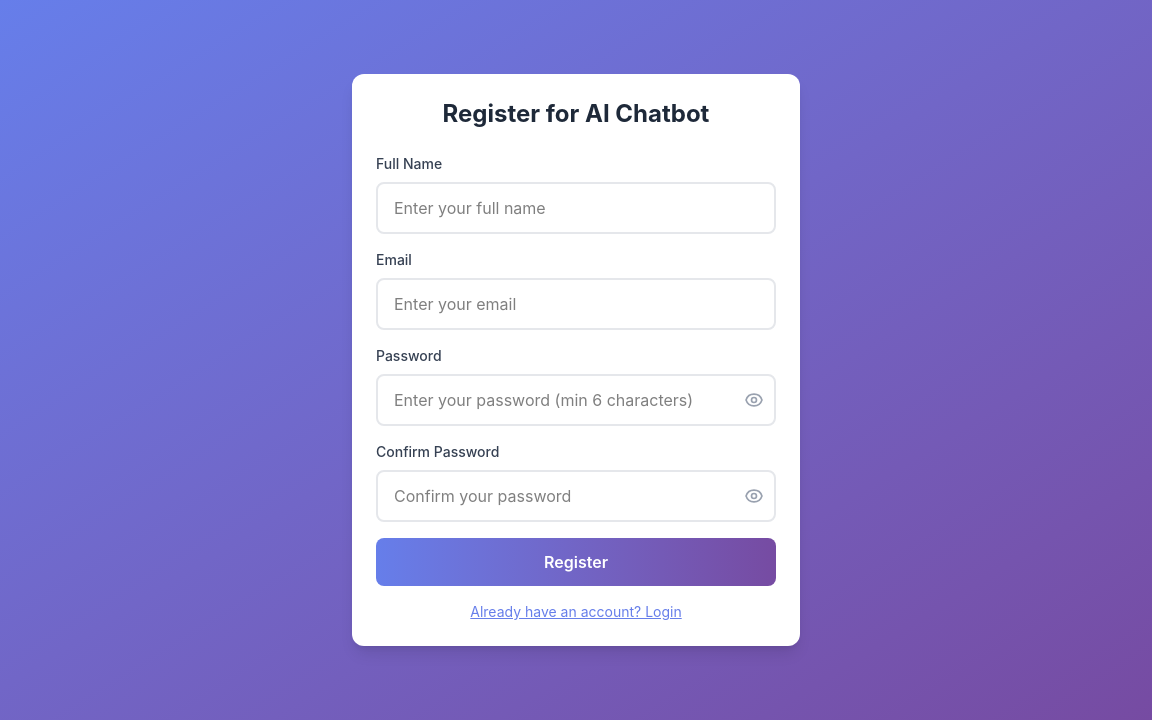
Test: Register Component › handles successful registration
Note: Fill form correctly
Type "Test User" into the field labelled "Full Name" at (576,208), box [376,182,776,234]
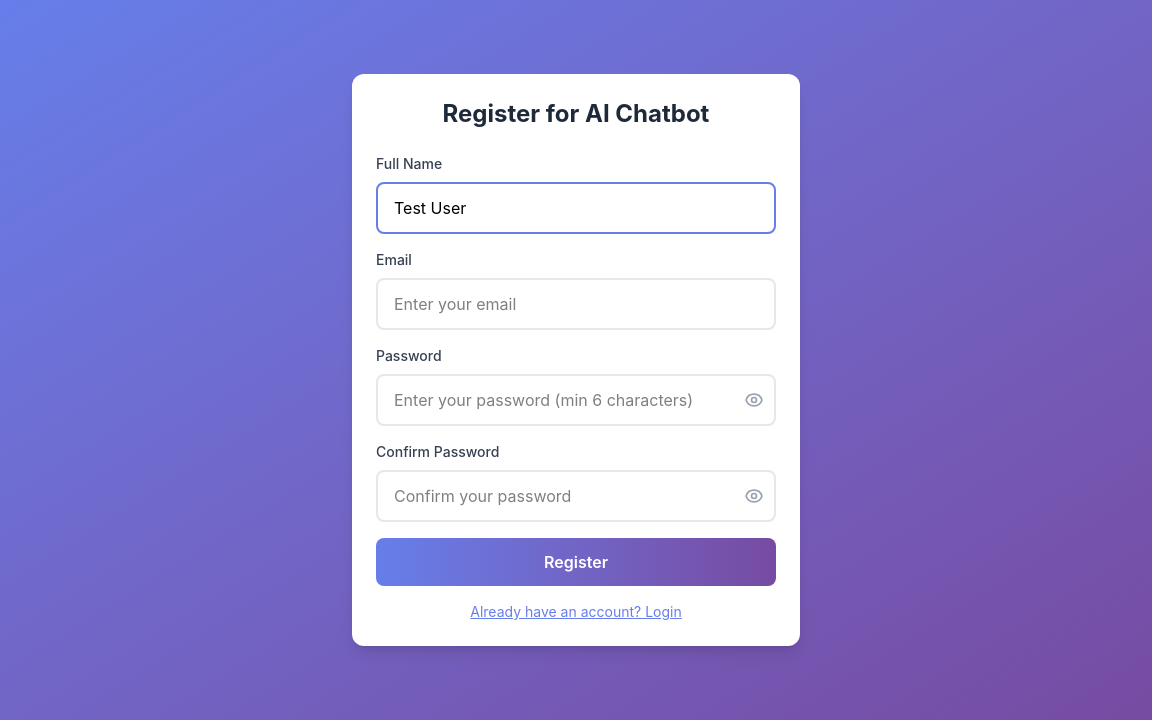
Type "test@example.com" into the field labelled "Email" at (576,304), box [376,278,776,330]
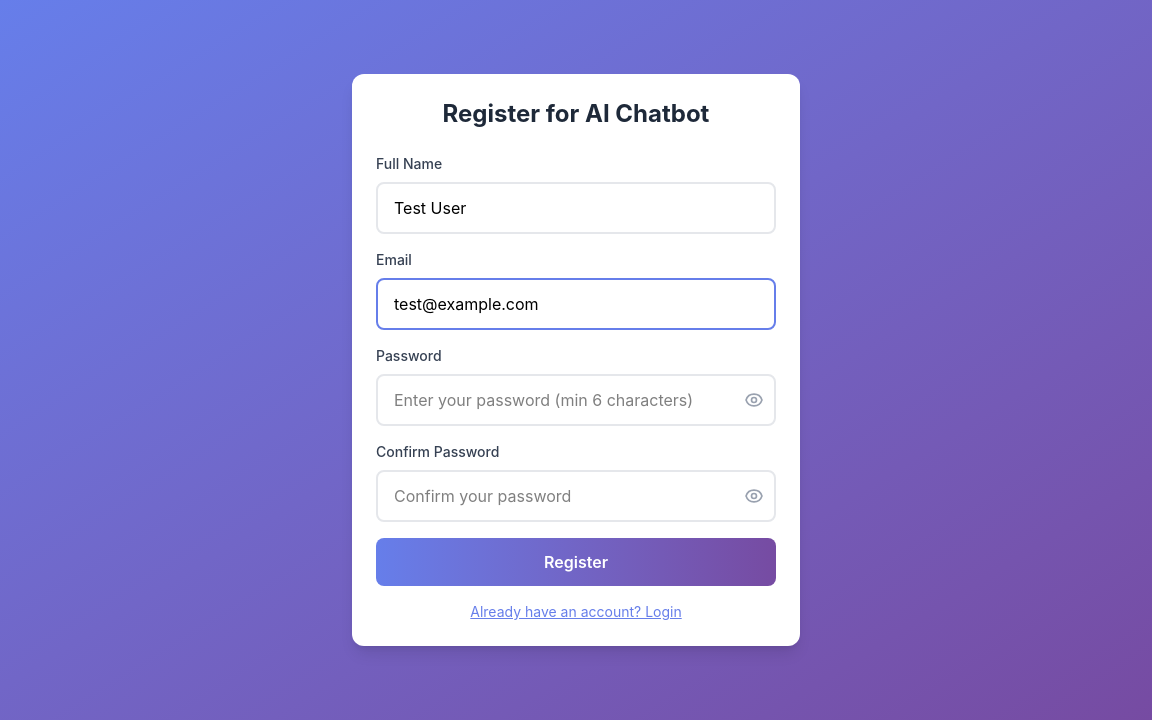
Type "password123" into the password field labelled "Password" at (576,400), box [376,374,776,426]
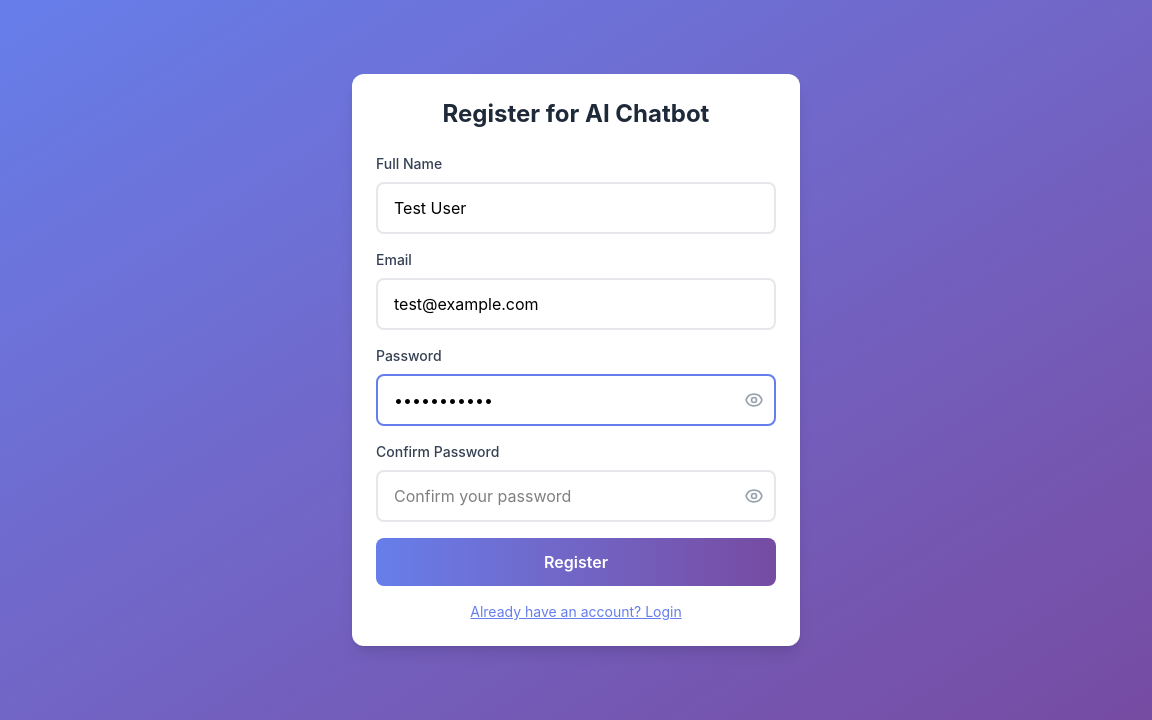
Type "password123" into the password field labelled "Confirm Password" at (576,496), box [376,470,776,522]
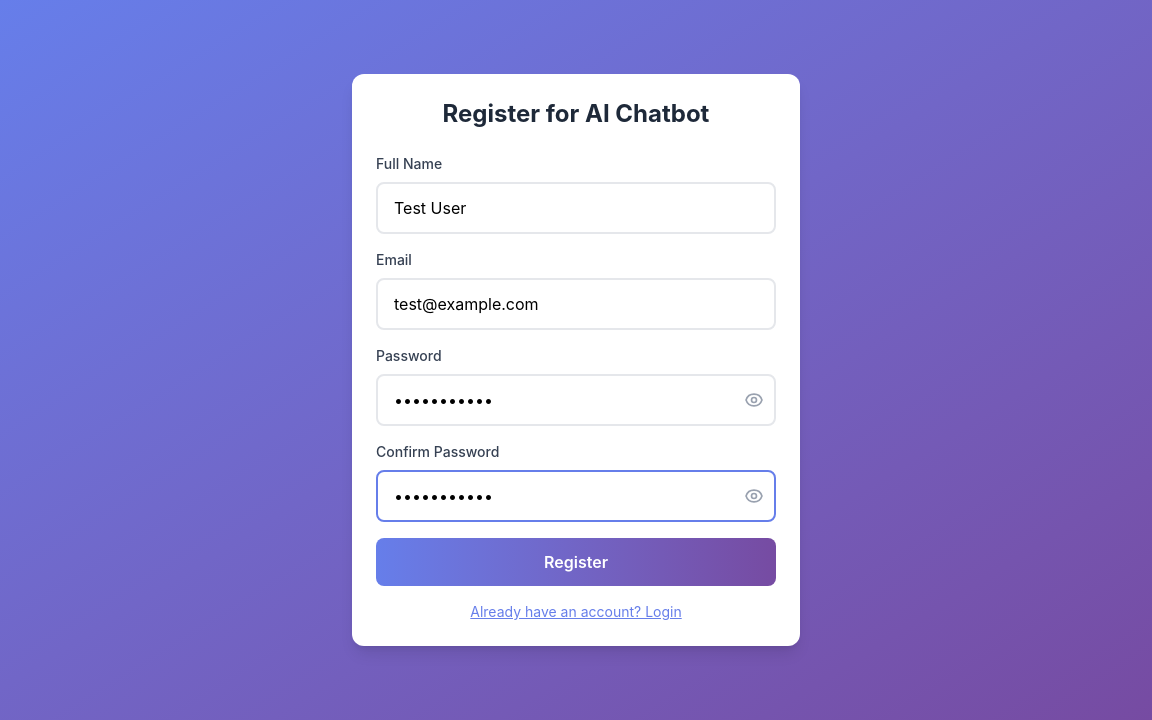
Note: Submit form
Click the button "Register" at (576,562), box [376,538,776,586]
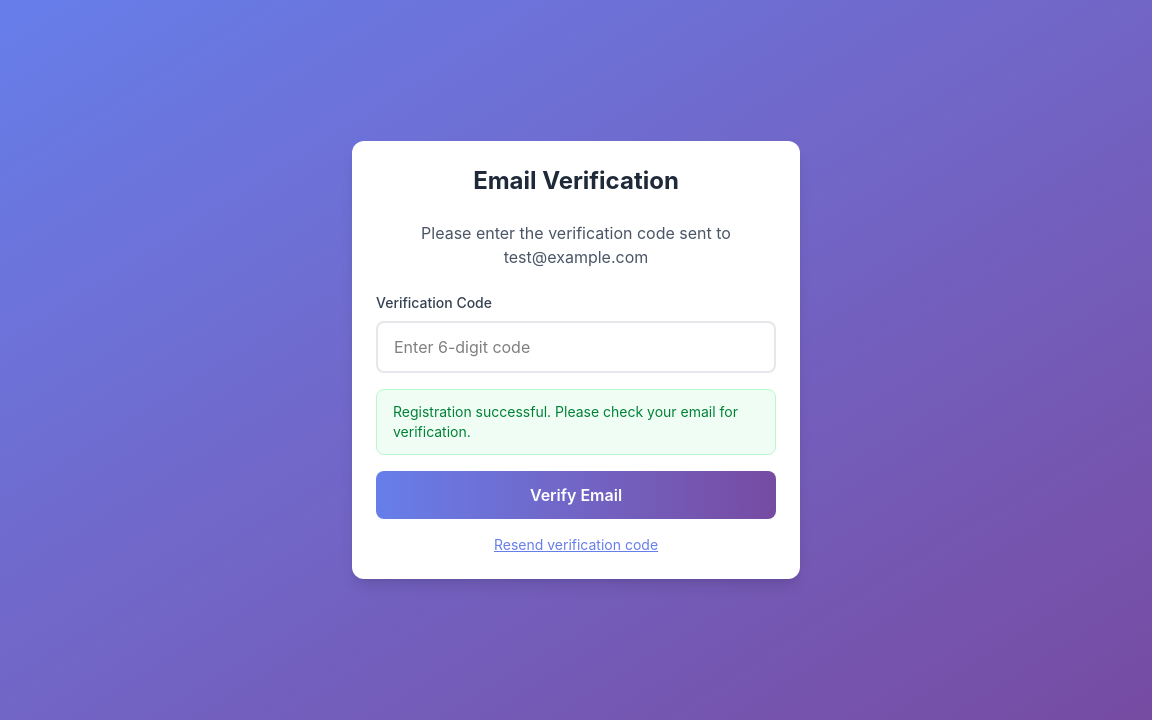
expect the text "Registration successful" is shown: met, box [393,403,738,440]
expect the heading "Email Verification" is shown: met, box [473,166,679,195]
